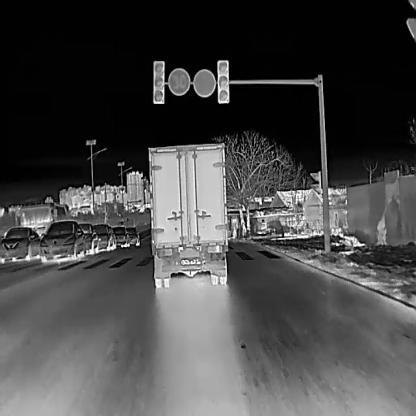car: (146, 142, 229, 288), (15, 202, 69, 250), (38, 219, 85, 260), (0, 226, 40, 262), (76, 221, 100, 253), (91, 222, 116, 251), (110, 224, 130, 247), (124, 225, 139, 246)
